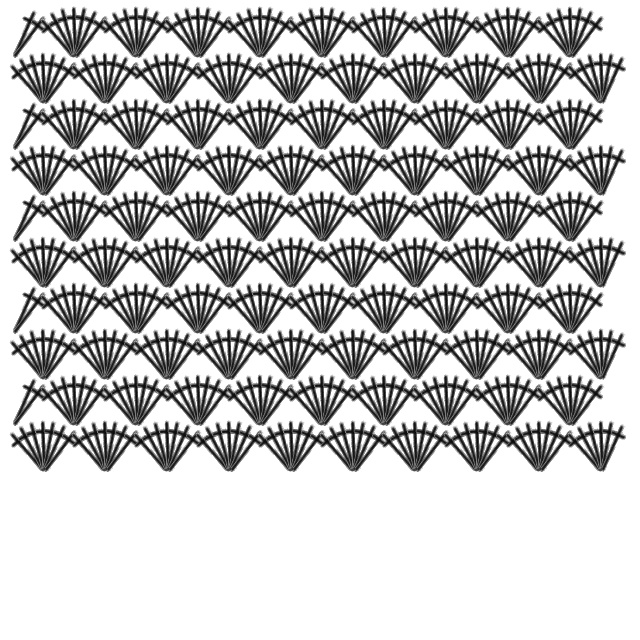enseble_chain: (1, 8, 57, 67), (31, 8, 87, 67), (63, 8, 119, 67), (93, 8, 149, 67), (125, 8, 181, 67), (155, 8, 211, 67), (187, 8, 243, 67), (217, 8, 273, 67), (249, 8, 305, 67), (279, 8, 335, 67), (311, 8, 367, 67), (341, 8, 397, 67), (373, 8, 429, 67), (403, 8, 459, 67), (435, 8, 491, 67), (465, 8, 521, 67), (497, 8, 553, 67), (527, 8, 583, 67), (559, 8, 615, 67), (0, 54, 56, 113), (32, 54, 88, 113), (62, 54, 118, 113), (94, 54, 150, 113), (124, 54, 180, 113), (156, 54, 212, 113), (186, 54, 242, 113), (218, 54, 274, 113), (248, 54, 304, 113), (280, 54, 336, 113), (310, 54, 366, 113), (342, 54, 398, 113), (372, 54, 428, 113), (404, 54, 460, 113), (434, 54, 490, 113), (466, 54, 522, 113), (496, 54, 552, 113), (528, 54, 584, 113), (558, 54, 614, 113), (1, 100, 57, 159), (31, 100, 87, 159), (63, 100, 119, 159), (93, 100, 149, 159), (125, 100, 181, 159), (155, 100, 211, 159), (187, 100, 243, 159), (217, 100, 273, 159), (249, 100, 305, 159), (279, 100, 335, 159), (311, 100, 367, 159), (341, 100, 397, 159), (373, 100, 429, 159), (403, 100, 459, 159), (435, 100, 491, 159), (465, 100, 521, 159), (497, 100, 553, 159), (527, 100, 583, 159), (559, 100, 615, 159), (0, 146, 56, 205), (32, 146, 88, 205), (62, 146, 118, 205), (94, 146, 150, 205), (124, 146, 180, 205), (156, 146, 212, 205), (186, 146, 242, 205), (218, 146, 274, 205), (248, 146, 304, 205), (280, 146, 336, 205), (310, 146, 366, 205), (342, 146, 398, 205), (372, 146, 428, 205), (404, 146, 460, 205), (434, 146, 490, 205), (466, 146, 522, 205), (496, 146, 552, 205), (528, 146, 584, 205), (558, 146, 614, 205), (1, 192, 57, 251), (31, 192, 87, 251), (63, 192, 119, 251), (93, 192, 149, 251), (125, 192, 181, 251), (155, 192, 211, 251), (187, 192, 243, 251), (217, 192, 273, 251), (249, 192, 305, 251), (279, 192, 335, 251), (311, 192, 367, 251), (341, 192, 397, 251), (373, 192, 429, 251), (403, 192, 459, 251), (435, 192, 491, 251), (465, 192, 521, 251), (497, 192, 553, 251), (527, 192, 583, 251), (559, 192, 615, 251), (0, 238, 56, 297), (32, 238, 88, 297), (62, 238, 118, 297), (94, 238, 150, 297), (124, 238, 180, 297), (156, 238, 212, 297), (186, 238, 242, 297), (218, 238, 274, 297), (248, 238, 304, 297), (280, 238, 336, 297), (310, 238, 366, 297), (342, 238, 398, 297), (372, 238, 428, 297), (404, 238, 460, 297), (434, 238, 490, 297), (466, 238, 522, 297), (496, 238, 552, 297), (528, 238, 584, 297), (558, 238, 614, 297), (1, 284, 57, 343), (31, 284, 87, 343), (63, 284, 119, 343), (93, 284, 149, 343), (125, 284, 181, 343), (155, 284, 211, 343), (187, 284, 243, 343), (217, 284, 273, 343), (249, 284, 305, 343), (279, 284, 335, 343), (311, 284, 367, 343), (341, 284, 397, 343), (373, 284, 429, 343), (403, 284, 459, 343), (435, 284, 491, 343), (465, 284, 521, 343), (497, 284, 553, 343), (527, 284, 583, 343), (559, 284, 615, 343), (0, 330, 56, 389), (32, 330, 88, 389), (62, 330, 118, 389), (94, 330, 150, 389), (124, 330, 180, 389), (156, 330, 212, 389), (186, 330, 242, 389), (218, 330, 274, 389), (248, 330, 304, 389), (280, 330, 336, 389), (310, 330, 366, 389), (342, 330, 398, 389), (372, 330, 428, 389), (404, 330, 460, 389), (434, 330, 490, 389), (466, 330, 522, 389), (496, 330, 552, 389), (528, 330, 584, 389), (558, 330, 614, 389), (1, 376, 57, 435), (31, 376, 87, 435), (63, 376, 119, 435), (93, 376, 149, 435), (125, 376, 181, 435), (155, 376, 211, 435), (187, 376, 243, 435), (217, 376, 273, 435), (249, 376, 305, 435), (279, 376, 335, 435), (311, 376, 367, 435), (341, 376, 397, 435), (373, 376, 429, 435), (403, 376, 459, 435), (435, 376, 491, 435), (465, 376, 521, 435), (497, 376, 553, 435), (527, 376, 583, 435), (559, 376, 615, 435), (0, 422, 56, 481), (32, 422, 88, 481), (62, 422, 118, 481), (94, 422, 150, 481), (124, 422, 180, 481), (156, 422, 212, 481), (186, 422, 242, 481), (218, 422, 274, 481), (248, 422, 304, 481), (280, 422, 336, 481), (310, 422, 366, 481), (342, 422, 398, 481), (372, 422, 428, 481), (404, 422, 460, 481), (434, 422, 490, 481), (466, 422, 522, 481), (496, 422, 552, 481), (528, 422, 584, 481), (558, 422, 614, 481), (0, 5, 49, 65), (39, 5, 88, 65), (62, 5, 111, 65), (101, 5, 150, 65), (124, 5, 173, 65), (163, 5, 212, 65), (186, 5, 235, 65), (225, 5, 274, 65), (248, 5, 297, 65), (287, 5, 336, 65), (310, 5, 359, 65), (349, 5, 398, 65), (372, 5, 421, 65), (411, 5, 460, 65), (434, 5, 483, 65), (473, 5, 522, 65), (496, 5, 545, 65), (535, 5, 584, 65), (558, 5, 607, 65), (8, 51, 57, 111), (31, 51, 80, 111), (70, 51, 119, 111), (93, 51, 142, 111), (132, 51, 181, 111), (155, 51, 204, 111), (194, 51, 243, 111), (217, 51, 266, 111), (256, 51, 305, 111), (279, 51, 328, 111), (318, 51, 367, 111), (341, 51, 390, 111), (380, 51, 429, 111), (403, 51, 452, 111), (442, 51, 491, 111), (465, 51, 514, 111), (504, 51, 553, 111), (527, 51, 576, 111), (566, 51, 615, 111), (589, 51, 638, 111), (0, 97, 49, 157), (39, 97, 88, 157), (62, 97, 111, 157), (101, 97, 150, 157), (124, 97, 173, 157), (163, 97, 212, 157), (186, 97, 235, 157), (225, 97, 274, 157), (248, 97, 297, 157), (287, 97, 336, 157), (310, 97, 359, 157), (349, 97, 398, 157), (372, 97, 421, 157), (411, 97, 460, 157), (434, 97, 483, 157), (473, 97, 522, 157), (496, 97, 545, 157), (535, 97, 584, 157), (558, 97, 607, 157), (8, 143, 57, 203), (31, 143, 80, 203), (70, 143, 119, 203), (93, 143, 142, 203), (132, 143, 181, 203), (155, 143, 204, 203), (194, 143, 243, 203), (217, 143, 266, 203), (256, 143, 305, 203), (279, 143, 328, 203), (318, 143, 367, 203), (341, 143, 390, 203), (380, 143, 429, 203), (403, 143, 452, 203), (442, 143, 491, 203), (465, 143, 514, 203), (504, 143, 553, 203), (527, 143, 576, 203), (566, 143, 615, 203), (589, 143, 638, 203), (0, 189, 49, 249), (39, 189, 88, 249), (62, 189, 111, 249), (101, 189, 150, 249), (124, 189, 173, 249), (163, 189, 212, 249), (186, 189, 235, 249), (225, 189, 274, 249), (248, 189, 297, 249), (287, 189, 336, 249), (310, 189, 359, 249), (349, 189, 398, 249), (372, 189, 421, 249), (411, 189, 460, 249), (434, 189, 483, 249), (473, 189, 522, 249), (496, 189, 545, 249), (535, 189, 584, 249), (558, 189, 607, 249), (8, 235, 57, 295), (31, 235, 80, 295), (70, 235, 119, 295), (93, 235, 142, 295), (132, 235, 181, 295), (155, 235, 204, 295), (194, 235, 243, 295), (217, 235, 266, 295), (256, 235, 305, 295), (279, 235, 328, 295), (318, 235, 367, 295), (341, 235, 390, 295), (380, 235, 429, 295), (403, 235, 452, 295), (442, 235, 491, 295), (465, 235, 514, 295), (504, 235, 553, 295), (527, 235, 576, 295), (566, 235, 615, 295), (589, 235, 638, 295), (0, 281, 49, 341), (39, 281, 88, 341), (62, 281, 111, 341), (101, 281, 150, 341), (124, 281, 173, 341), (163, 281, 212, 341), (186, 281, 235, 341), (225, 281, 274, 341), (248, 281, 297, 341), (287, 281, 336, 341), (310, 281, 359, 341), (349, 281, 398, 341), (372, 281, 421, 341), (411, 281, 460, 341), (434, 281, 483, 341), (473, 281, 522, 341), (496, 281, 545, 341), (535, 281, 584, 341), (558, 281, 607, 341), (8, 327, 57, 387), (31, 327, 80, 387), (70, 327, 119, 387), (93, 327, 142, 387), (132, 327, 181, 387), (155, 327, 204, 387), (194, 327, 243, 387), (217, 327, 266, 387), (256, 327, 305, 387), (279, 327, 328, 387), (318, 327, 367, 387), (341, 327, 390, 387), (380, 327, 429, 387), (403, 327, 452, 387), (442, 327, 491, 387), (465, 327, 514, 387), (504, 327, 553, 387), (527, 327, 576, 387), (566, 327, 615, 387), (589, 327, 638, 387), (0, 373, 49, 433), (39, 373, 88, 433), (62, 373, 111, 433), (101, 373, 150, 433), (124, 373, 173, 433), (163, 373, 212, 433), (186, 373, 235, 433), (225, 373, 274, 433), (248, 373, 297, 433), (287, 373, 336, 433), (310, 373, 359, 433), (349, 373, 398, 433), (372, 373, 421, 433), (411, 373, 460, 433), (434, 373, 483, 433), (473, 373, 522, 433), (496, 373, 545, 433), (535, 373, 584, 433), (558, 373, 607, 433), (8, 419, 57, 479), (31, 419, 80, 479), (70, 419, 119, 479), (93, 419, 142, 479), (132, 419, 181, 479), (155, 419, 204, 479), (194, 419, 243, 479), (217, 419, 266, 479), (256, 419, 305, 479), (279, 419, 328, 479), (318, 419, 367, 479), (341, 419, 390, 479), (380, 419, 429, 479), (403, 419, 452, 479), (442, 419, 491, 479), (465, 419, 514, 479), (504, 419, 553, 479), (527, 419, 576, 479), (566, 419, 615, 479), (589, 419, 638, 479), (49, 4, 90, 61), (60, 4, 101, 61), (111, 4, 152, 61), (122, 4, 163, 61), (173, 4, 214, 61), (184, 4, 225, 61), (235, 4, 276, 61), (246, 4, 287, 61), (297, 4, 338, 61), (308, 4, 349, 61), (359, 4, 400, 61), (370, 4, 411, 61), (421, 4, 462, 61), (432, 4, 473, 61), (483, 4, 524, 61), (494, 4, 535, 61), (545, 4, 586, 61), (556, 4, 597, 61), (18, 50, 59, 107), (29, 50, 70, 107), (80, 50, 121, 107), (91, 50, 132, 107), (142, 50, 183, 107), (153, 50, 194, 107), (204, 50, 245, 107), (215, 50, 256, 107), (266, 50, 307, 107), (277, 50, 318, 107), (328, 50, 369, 107), (339, 50, 380, 107), (390, 50, 431, 107), (401, 50, 442, 107), (452, 50, 493, 107), (463, 50, 504, 107), (514, 50, 555, 107), (525, 50, 566, 107), (576, 50, 617, 107), (587, 50, 628, 107), (49, 96, 90, 153), (60, 96, 101, 153), (111, 96, 152, 153), (122, 96, 163, 153), (173, 96, 214, 153), (184, 96, 225, 153), (235, 96, 276, 153), (246, 96, 287, 153), (297, 96, 338, 153), (308, 96, 349, 153), (359, 96, 400, 153), (370, 96, 411, 153), (421, 96, 462, 153), (432, 96, 473, 153), (483, 96, 524, 153), (494, 96, 535, 153), (545, 96, 586, 153), (556, 96, 597, 153), (18, 142, 59, 199), (29, 142, 70, 199), (80, 142, 121, 199), (91, 142, 132, 199), (142, 142, 183, 199), (153, 142, 194, 199), (204, 142, 245, 199), (215, 142, 256, 199), (266, 142, 307, 199), (277, 142, 318, 199), (328, 142, 369, 199), (339, 142, 380, 199), (390, 142, 431, 199), (401, 142, 442, 199), (452, 142, 493, 199), (463, 142, 504, 199), (514, 142, 555, 199), (525, 142, 566, 199), (576, 142, 617, 199), (587, 142, 628, 199), (49, 188, 90, 245), (60, 188, 101, 245), (111, 188, 152, 245), (122, 188, 163, 245), (173, 188, 214, 245), (184, 188, 225, 245), (235, 188, 276, 245), (246, 188, 287, 245), (297, 188, 338, 245), (308, 188, 349, 245), (359, 188, 400, 245), (370, 188, 411, 245), (421, 188, 462, 245), (432, 188, 473, 245), (483, 188, 524, 245), (494, 188, 535, 245), (545, 188, 586, 245), (556, 188, 597, 245), (18, 234, 59, 291), (29, 234, 70, 291), (80, 234, 121, 291), (91, 234, 132, 291), (142, 234, 183, 291), (153, 234, 194, 291), (204, 234, 245, 291), (215, 234, 256, 291), (266, 234, 307, 291), (277, 234, 318, 291), (328, 234, 369, 291), (339, 234, 380, 291), (390, 234, 431, 291), (401, 234, 442, 291), (452, 234, 493, 291), (463, 234, 504, 291), (514, 234, 555, 291), (525, 234, 566, 291), (576, 234, 617, 291), (587, 234, 628, 291), (49, 280, 90, 337), (60, 280, 101, 337), (111, 280, 152, 337), (122, 280, 163, 337), (173, 280, 214, 337), (184, 280, 225, 337), (235, 280, 276, 337), (246, 280, 287, 337), (297, 280, 338, 337), (308, 280, 349, 337), (359, 280, 400, 337), (370, 280, 411, 337), (421, 280, 462, 337), (432, 280, 473, 337), (483, 280, 524, 337), (494, 280, 535, 337), (545, 280, 586, 337), (556, 280, 597, 337), (18, 326, 59, 383), (29, 326, 70, 383), (80, 326, 121, 383), (91, 326, 132, 383), (142, 326, 183, 383), (153, 326, 194, 383), (204, 326, 245, 383), (215, 326, 256, 383), (266, 326, 307, 383), (277, 326, 318, 383), (328, 326, 369, 383), (339, 326, 380, 383), (390, 326, 431, 383), (401, 326, 442, 383), (452, 326, 493, 383), (463, 326, 504, 383), (514, 326, 555, 383), (525, 326, 566, 383), (576, 326, 617, 383), (587, 326, 628, 383), (49, 372, 90, 429), (60, 372, 101, 429), (111, 372, 152, 429), (122, 372, 163, 429), (173, 372, 214, 429), (184, 372, 225, 429), (235, 372, 276, 429), (246, 372, 287, 429), (297, 372, 338, 429), (308, 372, 349, 429), (359, 372, 400, 429), (370, 372, 411, 429), (421, 372, 462, 429), (432, 372, 473, 429), (483, 372, 524, 429), (494, 372, 535, 429), (545, 372, 586, 429), (556, 372, 597, 429), (18, 418, 59, 475), (29, 418, 70, 475), (80, 418, 121, 475), (91, 418, 132, 475), (142, 418, 183, 475), (153, 418, 194, 475), (204, 418, 245, 475), (215, 418, 256, 475), (266, 418, 307, 475), (277, 418, 318, 475), (328, 418, 369, 475), (339, 418, 380, 475), (390, 418, 431, 475), (401, 418, 442, 475), (452, 418, 493, 475), (463, 418, 504, 475), (514, 418, 555, 475), (525, 418, 566, 475), (576, 418, 617, 475), (587, 418, 628, 475), (60, 6, 90, 58), (122, 6, 152, 58), (184, 6, 214, 58), (246, 6, 276, 58), (308, 6, 338, 58), (370, 6, 400, 58), (432, 6, 462, 58), (494, 6, 524, 58), (556, 6, 586, 58), (29, 52, 59, 104), (91, 52, 121, 104), (153, 52, 183, 104), (215, 52, 245, 104), (277, 52, 307, 104), (339, 52, 369, 104), (401, 52, 431, 104), (463, 52, 493, 104), (525, 52, 555, 104), (587, 52, 617, 104), (60, 98, 90, 150), (122, 98, 152, 150), (184, 98, 214, 150), (246, 98, 276, 150), (308, 98, 338, 150), (370, 98, 400, 150), (432, 98, 462, 150), (494, 98, 524, 150), (556, 98, 586, 150), (29, 144, 59, 196), (91, 144, 121, 196), (153, 144, 183, 196), (215, 144, 245, 196), (277, 144, 307, 196), (339, 144, 369, 196), (401, 144, 431, 196), (463, 144, 493, 196), (525, 144, 555, 196), (587, 144, 617, 196), (60, 190, 90, 242), (122, 190, 152, 242), (184, 190, 214, 242), (246, 190, 276, 242), (308, 190, 338, 242), (370, 190, 400, 242), (432, 190, 462, 242), (494, 190, 524, 242), (556, 190, 586, 242), (29, 236, 59, 288), (91, 236, 121, 288), (153, 236, 183, 288), (215, 236, 245, 288), (277, 236, 307, 288), (339, 236, 369, 288), (401, 236, 431, 288), (463, 236, 493, 288), (525, 236, 555, 288), (587, 236, 617, 288), (60, 282, 90, 334), (122, 282, 152, 334), (184, 282, 214, 334), (246, 282, 276, 334), (308, 282, 338, 334), (370, 282, 400, 334), (432, 282, 462, 334), (494, 282, 524, 334), (556, 282, 586, 334), (29, 328, 59, 380), (91, 328, 121, 380), (153, 328, 183, 380), (215, 328, 245, 380), (277, 328, 307, 380), (339, 328, 369, 380), (401, 328, 431, 380), (463, 328, 493, 380), (525, 328, 555, 380), (587, 328, 617, 380), (60, 374, 90, 426), (122, 374, 152, 426), (184, 374, 214, 426), (246, 374, 276, 426), (308, 374, 338, 426), (370, 374, 400, 426), (432, 374, 462, 426), (494, 374, 524, 426), (556, 374, 586, 426), (29, 420, 59, 472), (91, 420, 121, 472), (153, 420, 183, 472), (215, 420, 245, 472), (277, 420, 307, 472), (339, 420, 369, 472), (401, 420, 431, 472), (463, 420, 493, 472), (525, 420, 555, 472), (587, 420, 617, 472)
